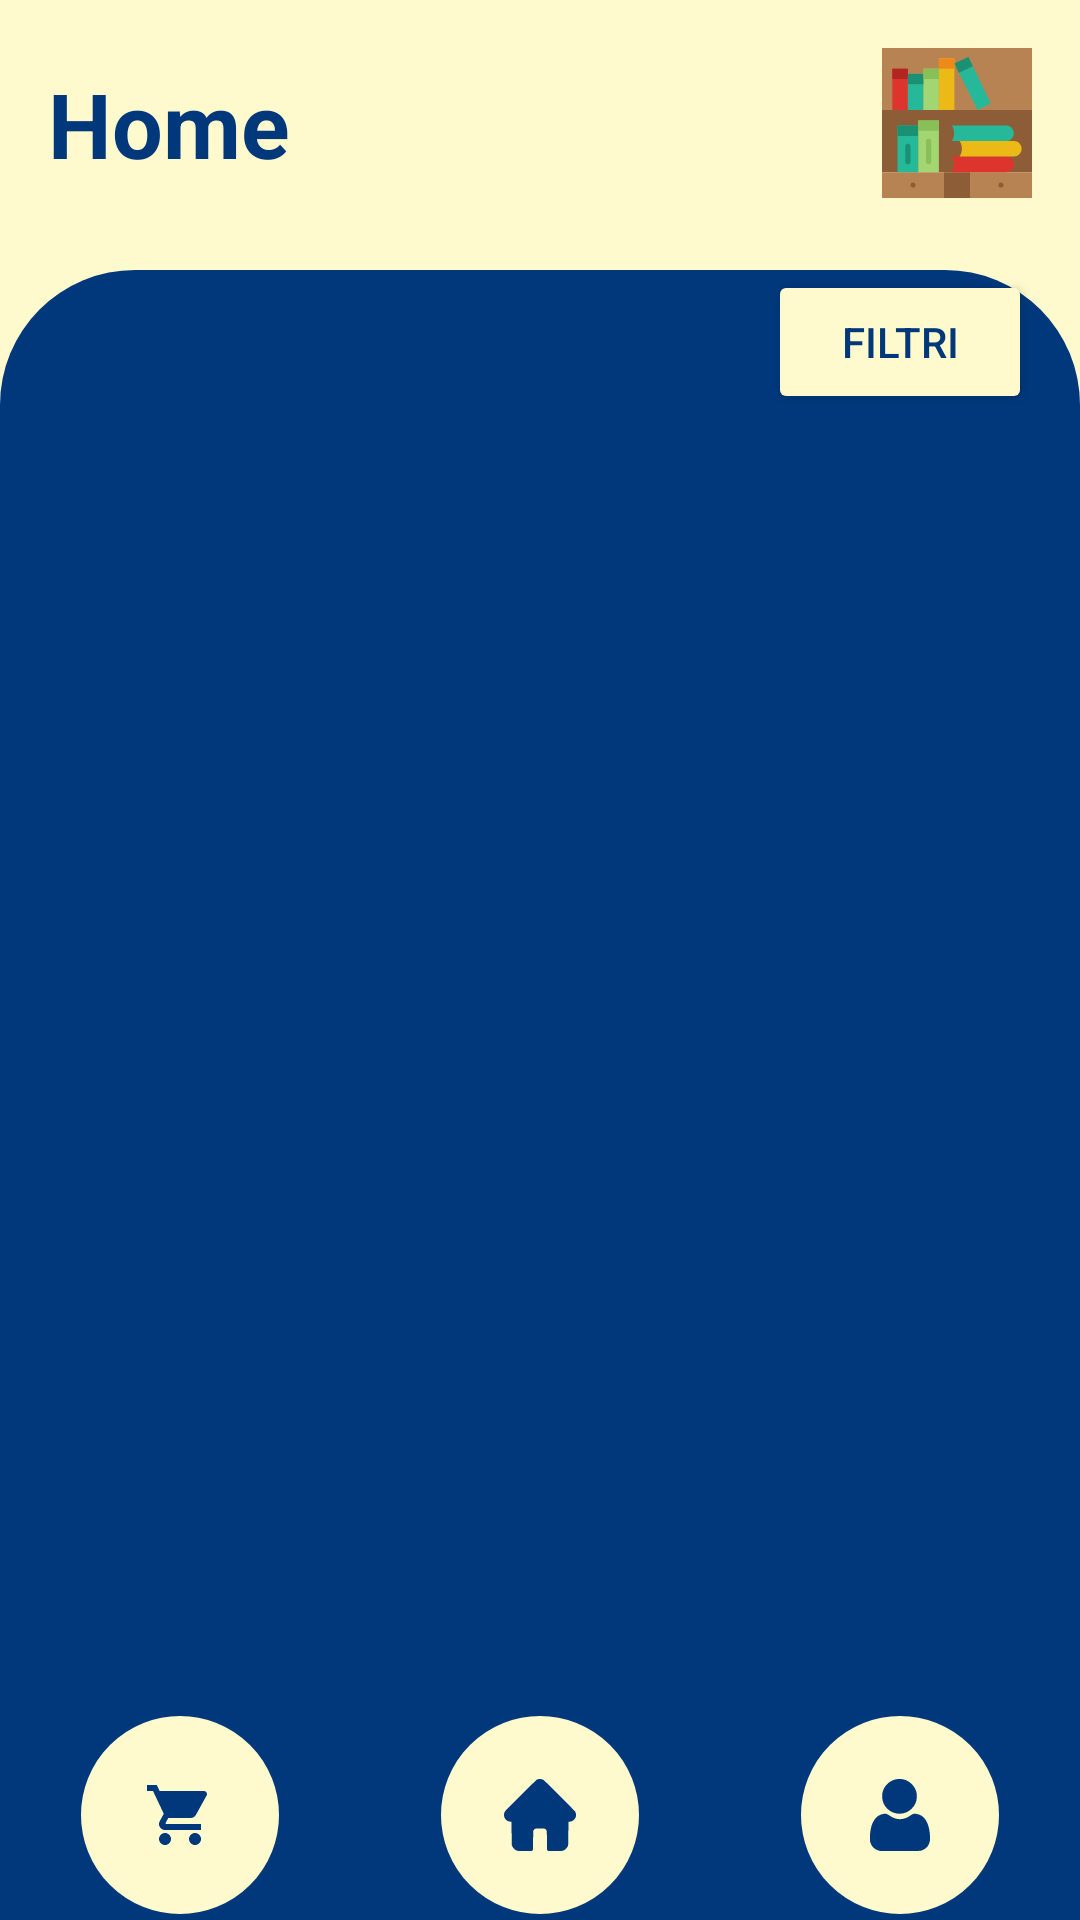

Icons on this 1080px x 1920px Android screen, each with its box as BBox(x1, y1, x2, y2):
account: BBox(870, 1779, 930, 1851)
cart: BBox(147, 1785, 207, 1845)
home: BBox(504, 1779, 576, 1851)
